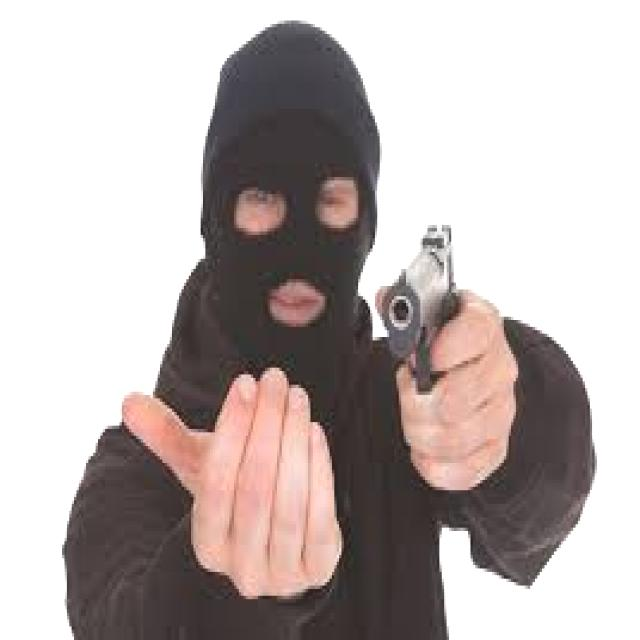pistol: (387, 208, 470, 395)
